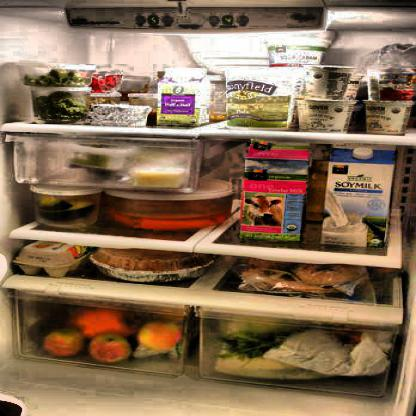apple: (15, 242, 84, 276), (88, 334, 132, 362), (138, 322, 180, 350), (45, 329, 85, 357)
milk: (329, 146, 390, 248), (242, 142, 304, 241)
yoghurt: (264, 32, 334, 66), (359, 99, 412, 134), (299, 99, 355, 131)
